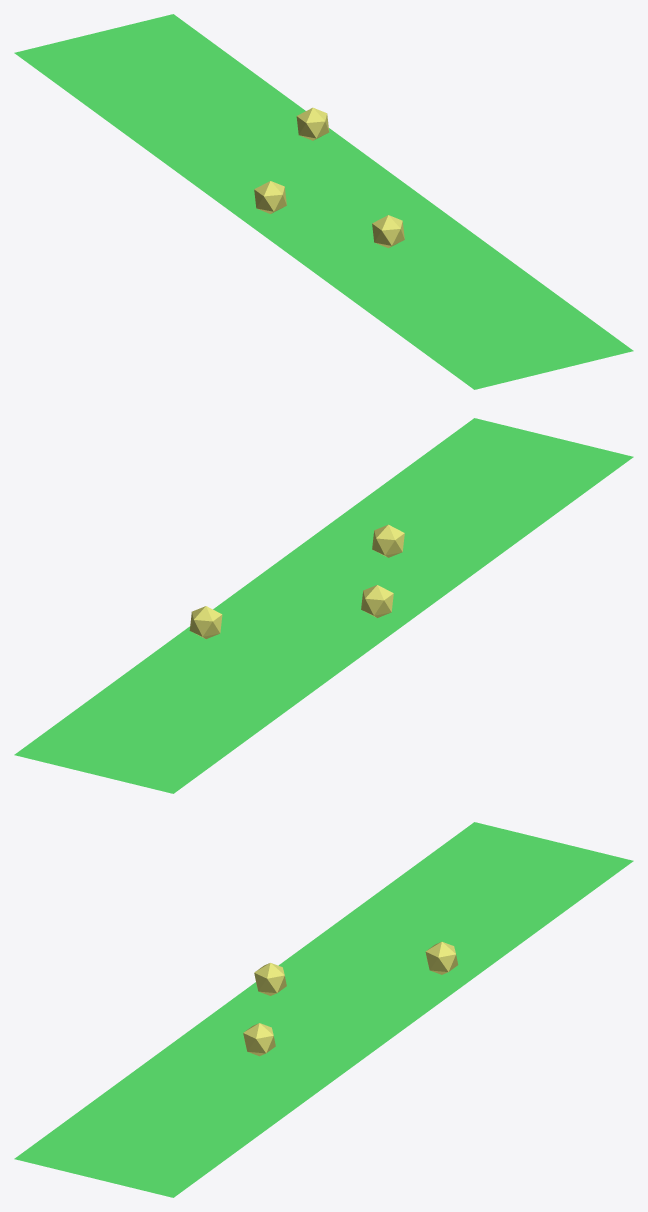
The model's file is stage4.glb.
3 renders of one model, top to bottom at view 1: azimuth 30°, elevation 25°; view 2: azimuth 150°, elevation 25°; view 3: azimuth 330°, elevation 25°, orthographic.
Parts seen in each view (by area): view 1: ground, move3, move2, move1; view 2: ground, move3, move2, move1; view 3: ground, move2, move3, move1.
Boxes of the visible parts, box(x1,y1,x2,y2) form: ground: box(14, 14, 633, 389); move3: box(372, 215, 404, 248); move2: box(296, 107, 329, 140); move1: box(254, 181, 286, 213); ground: box(14, 418, 633, 793); move3: box(372, 524, 404, 557); move2: box(189, 606, 222, 638); move1: box(361, 585, 393, 617); ground: box(14, 822, 633, 1197); move2: box(425, 941, 458, 974); move3: box(243, 1023, 275, 1056); move1: box(254, 963, 286, 995).
Bounding box in the file's own units: 20 × 4.1 × 100.
